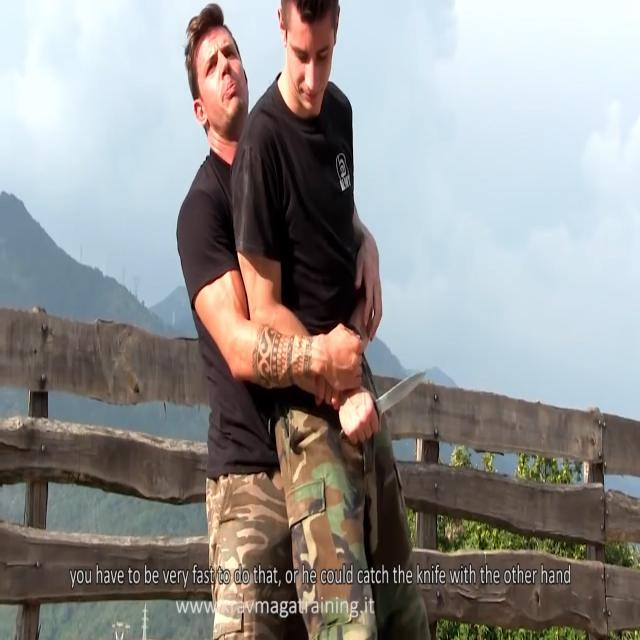knife: (374, 367, 429, 418)
